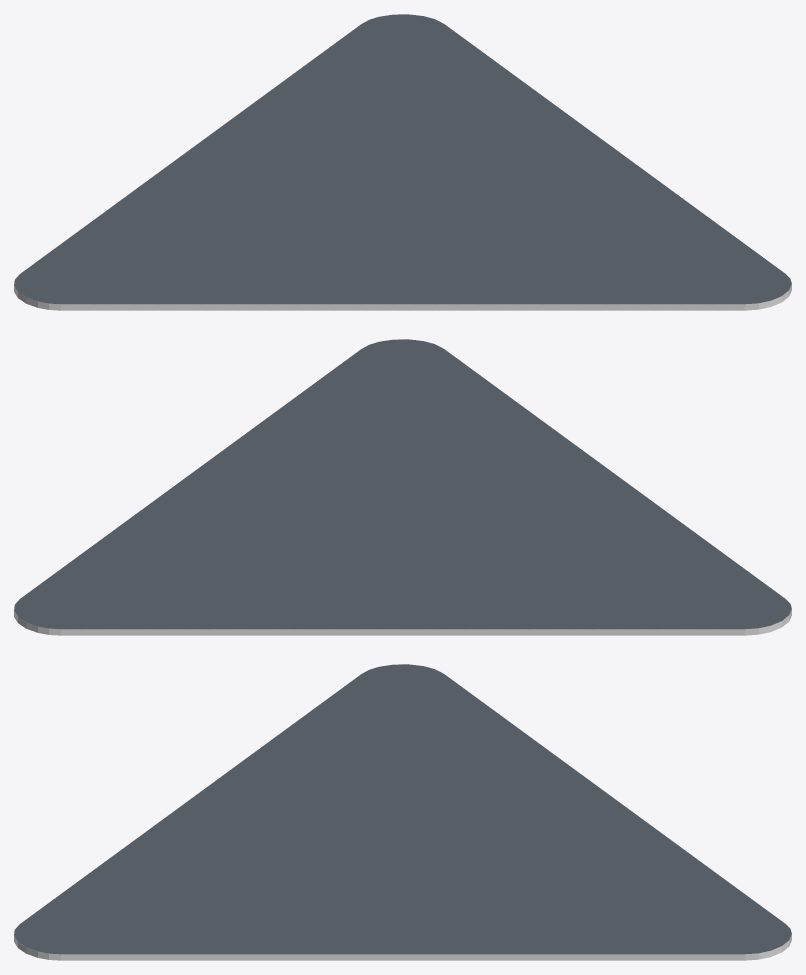
The model's file is give_way_znak_0003.obj.
The picture shows the model from 3 angles, top to bottom: view 1: azimuth 30°, elevation 25°; view 2: azimuth 150°, elevation 25°; view 3: azimuth 270°, elevation 25°; orthographic projection.
Visible parts, largest first — view 1: Give_way.1; view 2: Give_way.1; view 3: Give_way.1.
Boxes of the visible parts, x1=… form: Give_way.1: x1=14, y1=14, x2=791, y2=310; Give_way.1: x1=14, y1=339, x2=791, y2=635; Give_way.1: x1=14, y1=664, x2=791, y2=960.
Size of the model in its own units: 98.01 by 1 by 111.
Materials: 1 (1 with a texture image).
